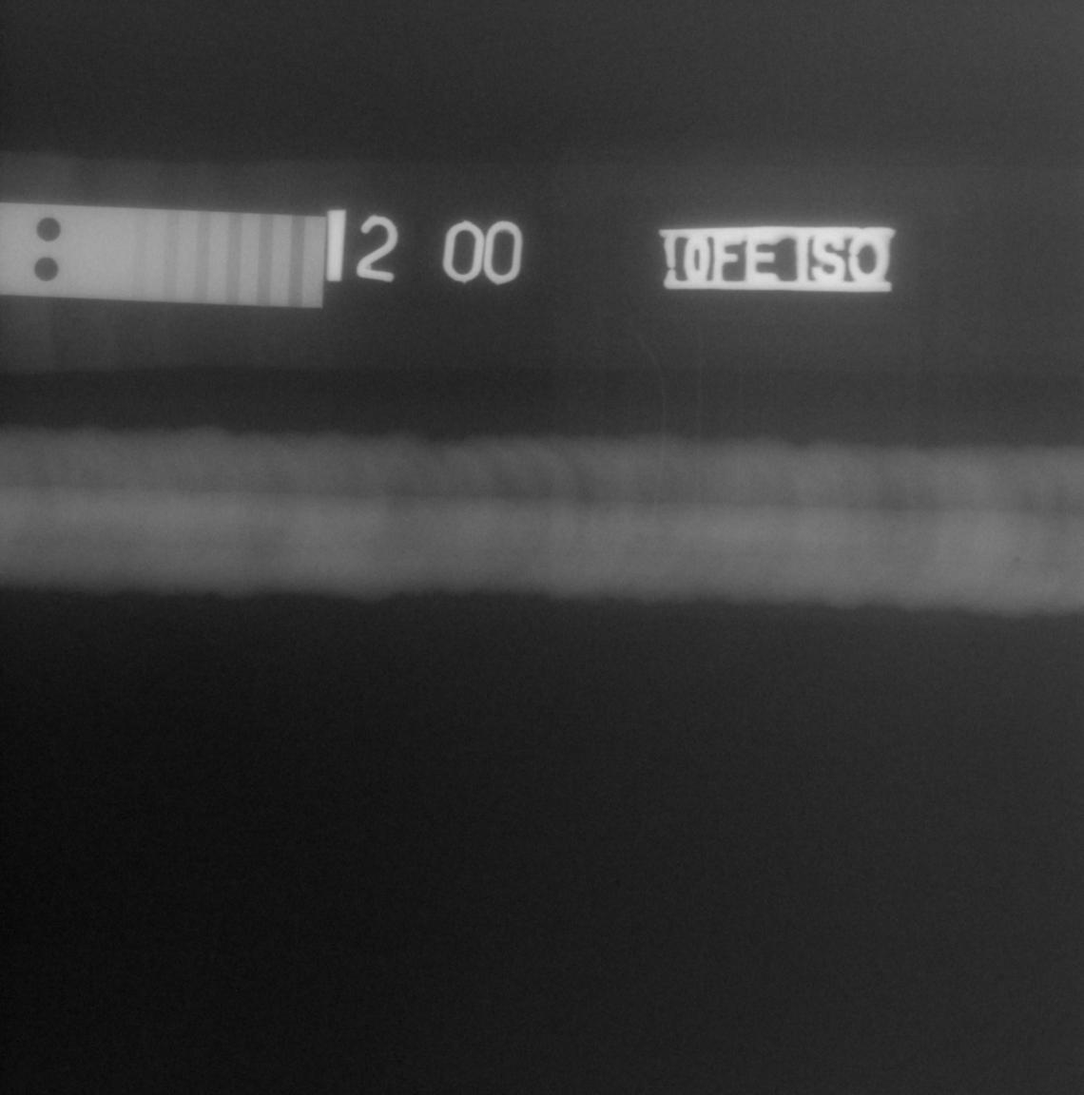Pore/Porosity: (1012, 557, 1020, 563), (1053, 515, 1058, 519), (607, 508, 610, 513)
